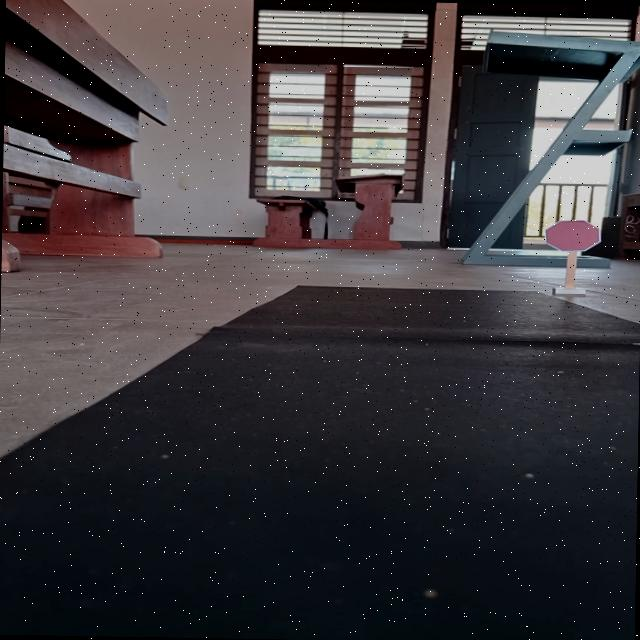Stop: (543, 218, 603, 252)
